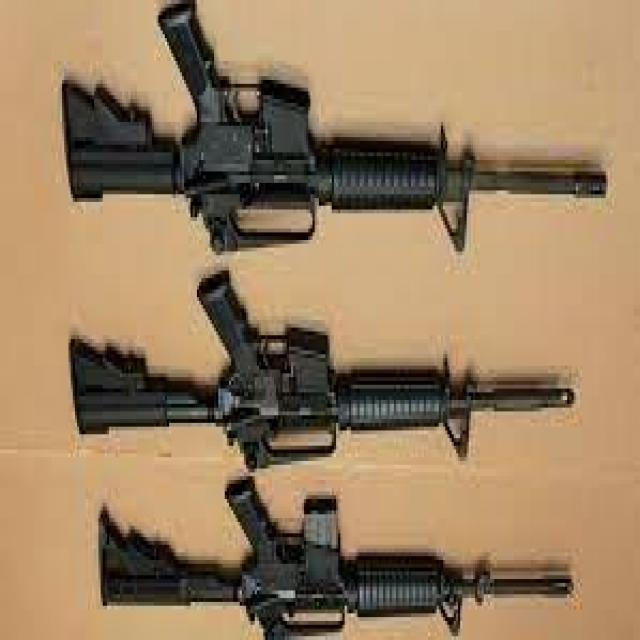weapon: (61, 0, 608, 256), (68, 269, 576, 472), (98, 474, 574, 640)
